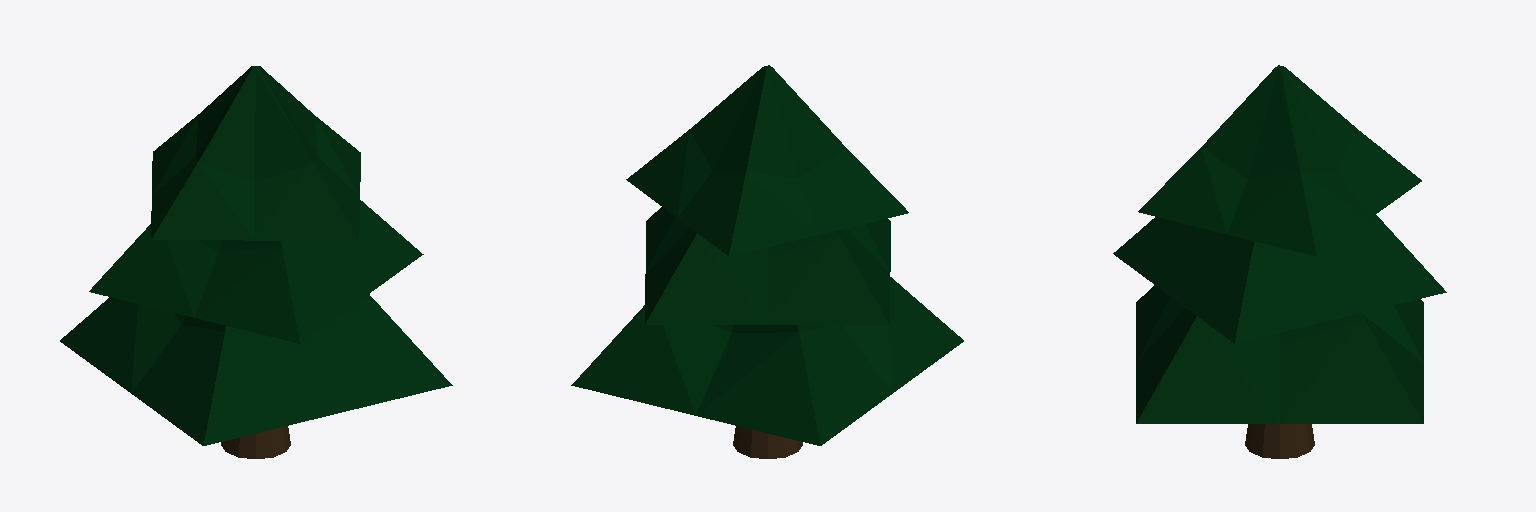
File: Mount_Tree_01.obj
The picture shows the model from 3 angles: view 1: azimuth 30°, elevation 25°; view 2: azimuth 150°, elevation 25°; view 3: azimuth 270°, elevation 25°; orthographic projection.
Visible parts, largest first — view 1: TREE_03, BASE; view 2: TREE_03, BASE; view 3: TREE_03, BASE.
Part boxes in pixels (left/top/right/bottom): TREE_03: left=60, top=66, right=452, bottom=445; BASE: left=221, top=426, right=290, bottom=458; TREE_03: left=571, top=65, right=963, bottom=445; BASE: left=733, top=426, right=802, bottom=458; TREE_03: left=1113, top=65, right=1446, bottom=423; BASE: left=1245, top=424, right=1314, bottom=458.
Size of the model in its own units: 3.24 by 4.03 by 3.24.